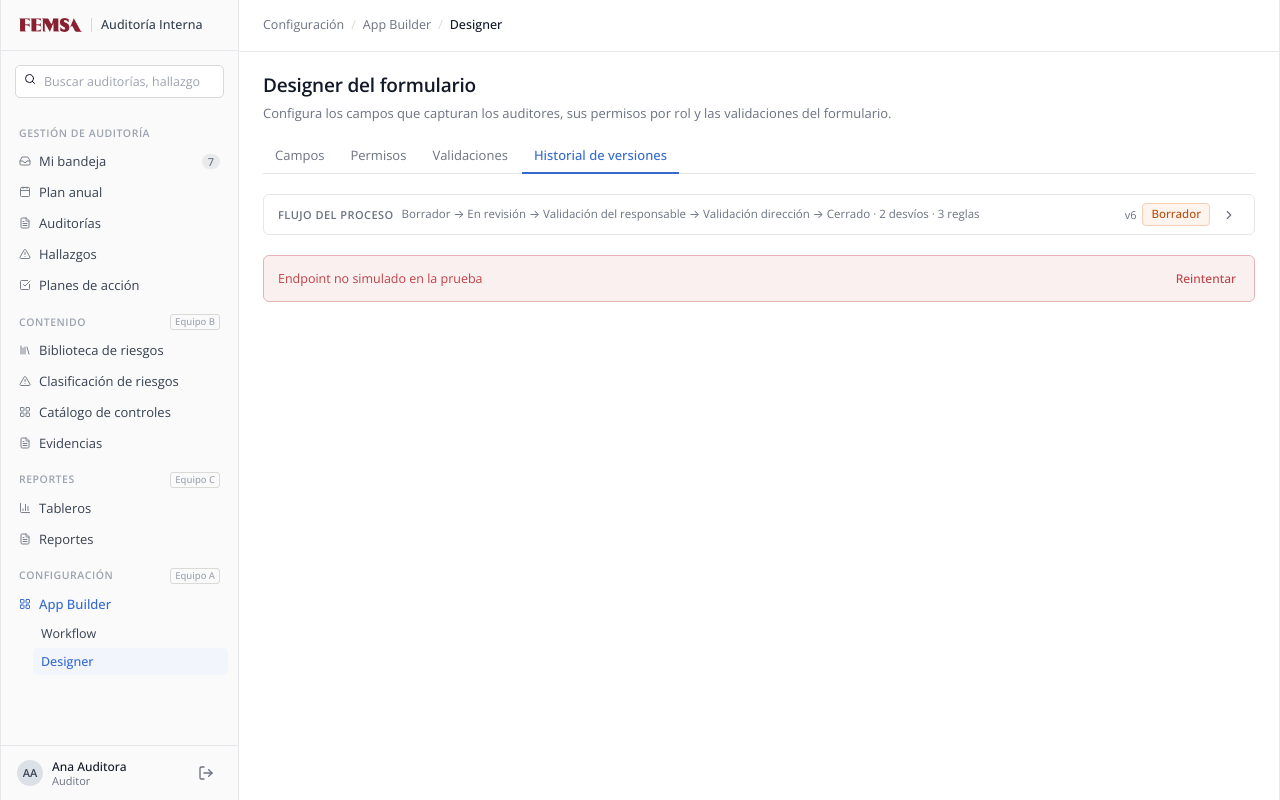
Scenario: Flujo del proceso en el Designer (US05) › se expande y se minimiza sin salir del Designer
Expected: the text "Flujo del proceso" is shown, [278,207,394,223]
Expected: the text "Borrador → En revisión" is shown, [402,206,871,221]
Click the button named "Expandir flujo del proceso".
click(1229, 215)  # box [1218,204,1240,226]
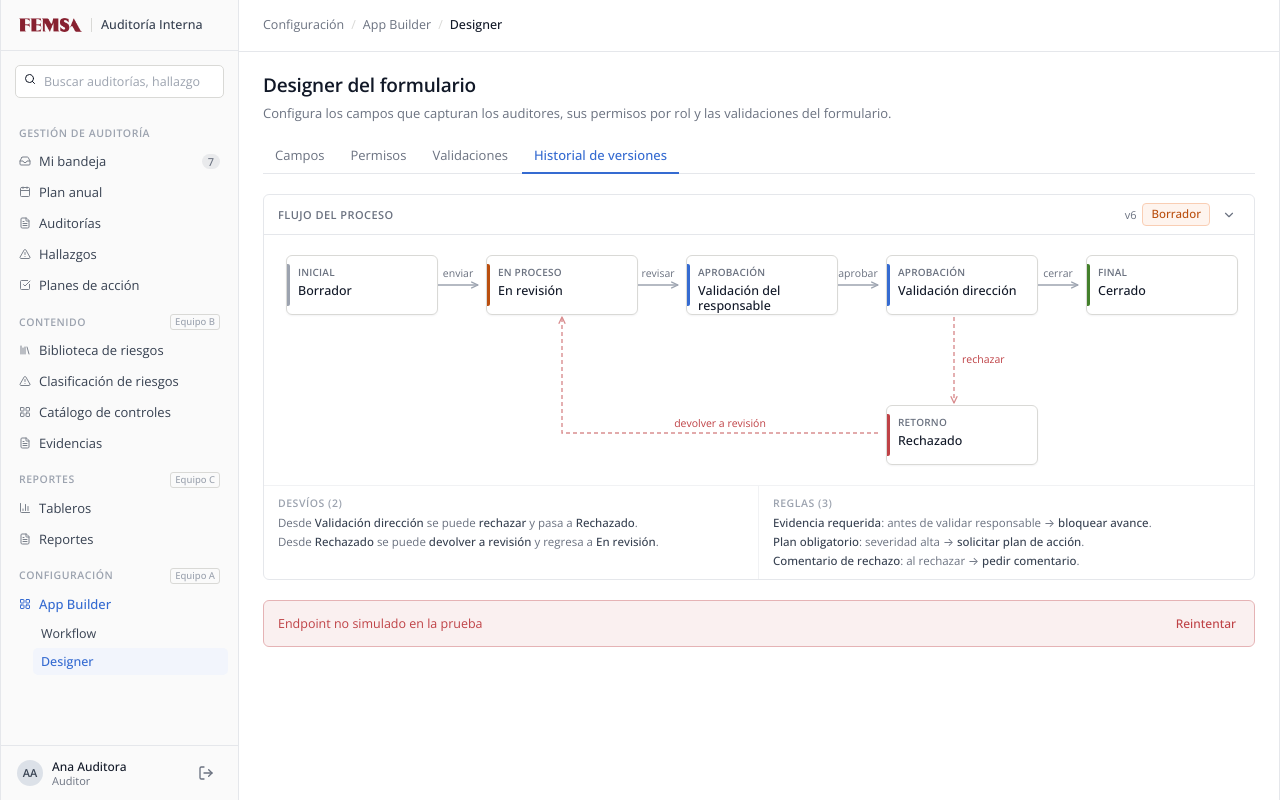
Result: the picture named "Diagrama del flujo: Borrador → En revisión → Validación del" is shown at [264,235,1274,485]
Result: the text "Desvíos (2)" is shown at [278,496,342,510]
Result: the text "Reglas (3)" is shown at [773,496,832,510]
Click the button named "Minimizar flujo del proceso".
click(1229, 215)  # box [1218,204,1240,226]
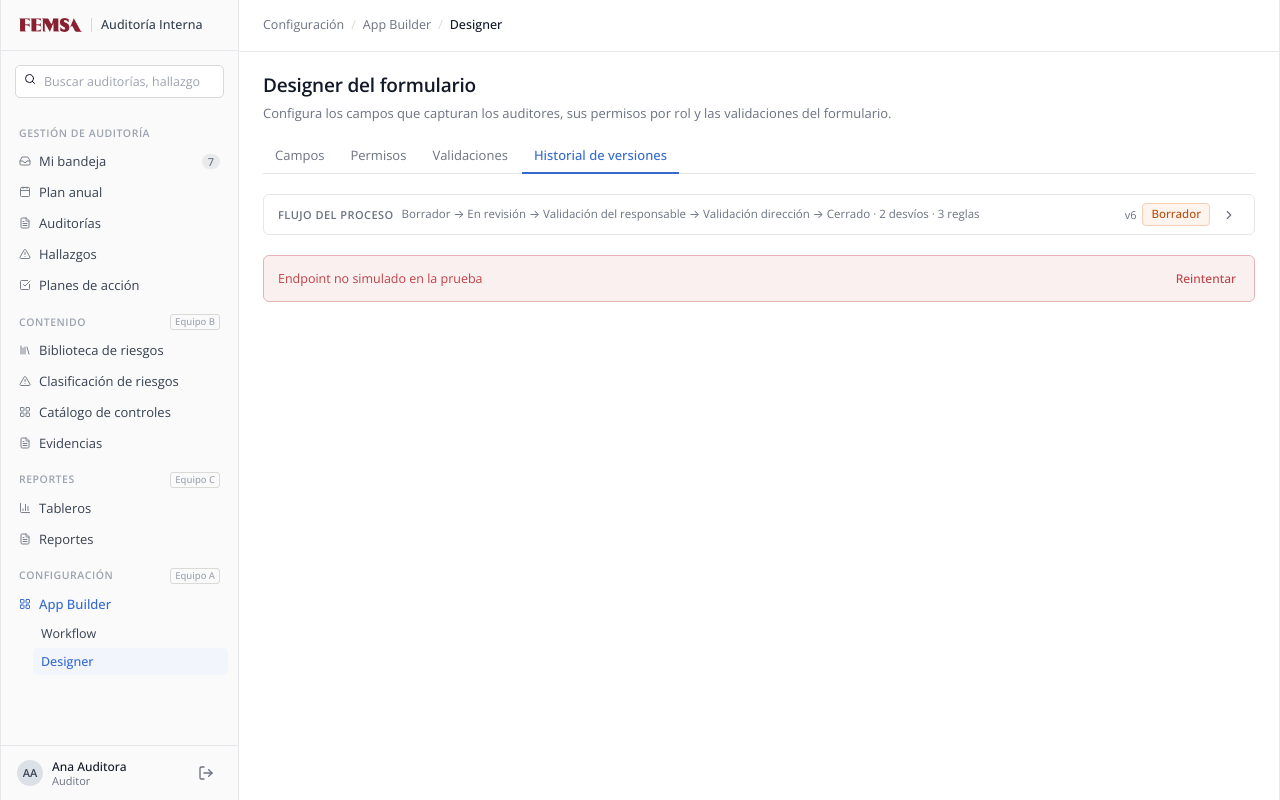
Result: the text "Reglas (3)" is gone
